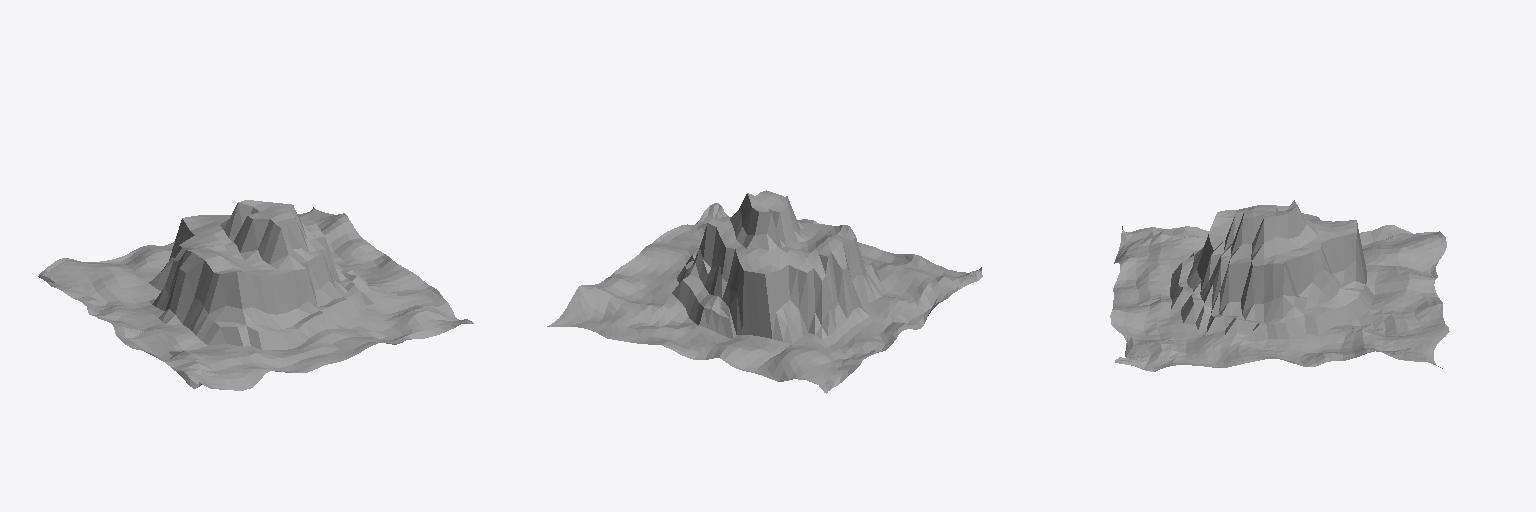
File: ceiling.obj
3 views of the same model, side by side, from view 1: azimuth 30°, elevation 25°; view 2: azimuth 150°, elevation 25°; view 3: azimuth 270°, elevation 25° (orthographic).
Parts seen in each view (by area): view 1: Plane; view 2: Plane; view 3: Plane.
Boxes of the visible parts, x1,y1,x2,y2 form: Plane: [38, 200, 473, 390]; Plane: [547, 190, 982, 393]; Plane: [1110, 200, 1449, 371].
Size of the model in its own units: 19.62 by 6.68 by 20.09.